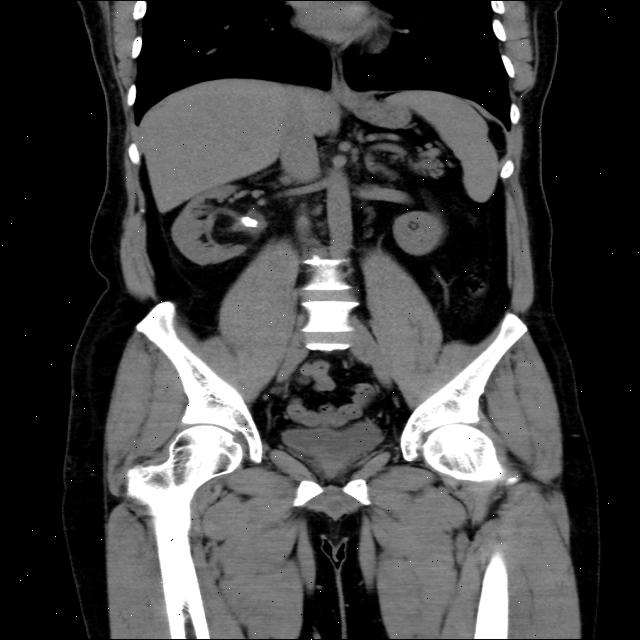kidneystone: (240, 216, 259, 228)
